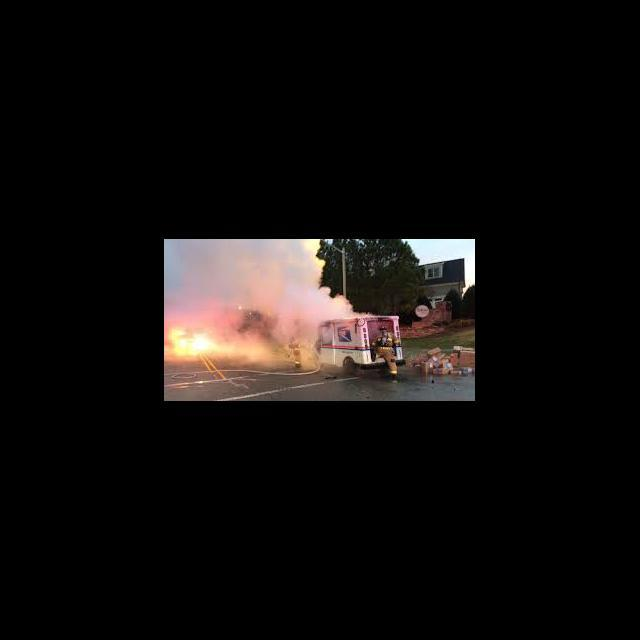Fire: (165, 319, 280, 368)
Smoke: (165, 239, 363, 318)
